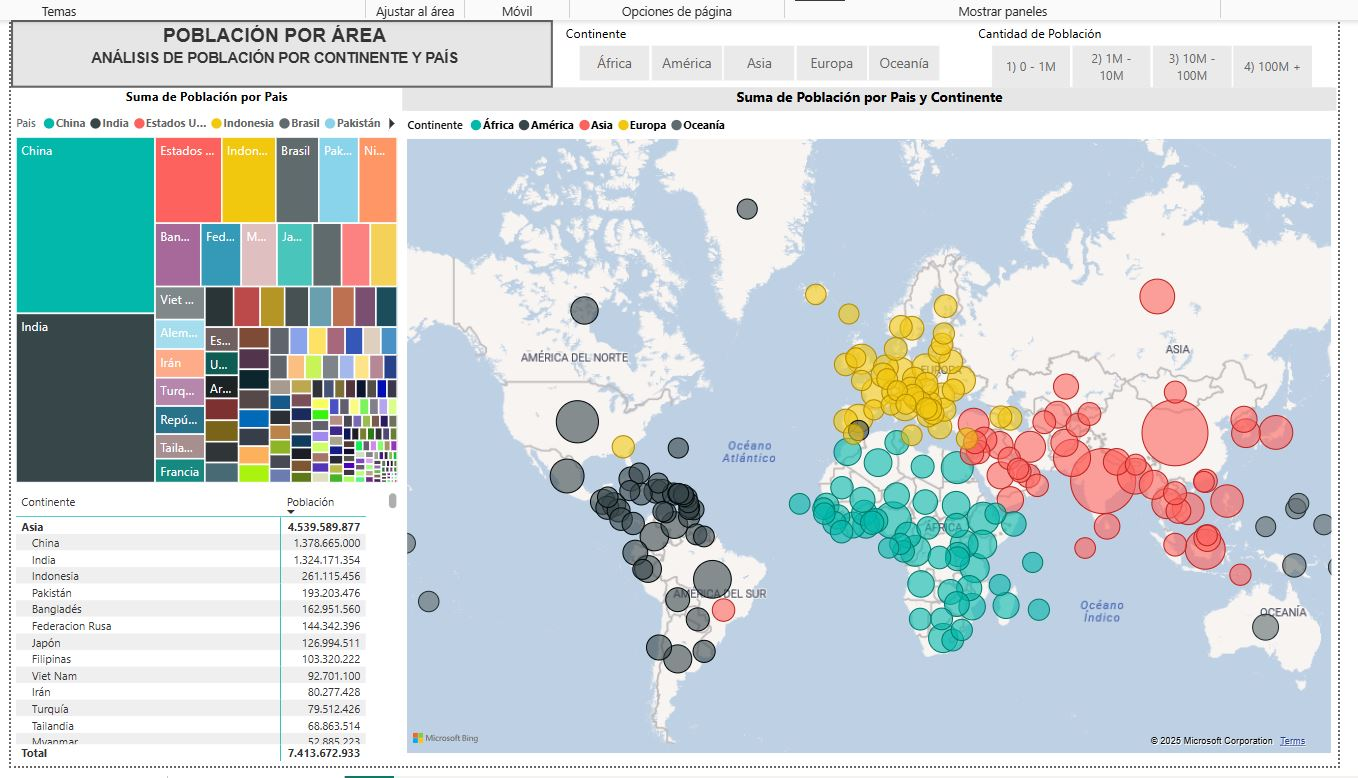

The dashboard page shown, as its layout file describes it:
{"tool":"powerbi","page":{"name":"Poblacion por Area","canvas":[1280,720],"ordinal":1},"visuals":[{"type":"pivotTable","fields":{"Rows":["Paises.Continente","Paises.Pais"],"Values":["Sum(Population.Población)"]},"box":[0,451.3,377.9,268.7],"z":0},{"type":"actionButton","box":[0,0,100,40],"z":1000},{"type":"slicer","fields":{"Values":["Population.Cantidad de Población"]},"box":[920.6,0,359.1,65.4],"z":2000},{"type":"slicer","fields":{"Values":["Paises.Continente"]},"box":[523,0,397.6,65.4],"z":3000},{"type":"treemap","fields":{"Group":["Paises.Pais"],"Values":["Sum(Population.Población)"]},"box":[0,65.4,377.9,386],"z":4000},{"type":"map","fields":{"Category":["Paises.Pais"],"Size":["Sum(Population.Población)"],"Series":["Paises.Continente"]},"box":[377.9,65.4,901.8,647.5],"z":5000},{"type":"shape","box":[0,0,523,65.4],"z":6000},{"type":"textbox","box":[10.7,0,487.2,55.5],"z":7000}]}

Visuals, with their boxes on the page's 1280x720 design canvas (x1, y1, x2, y2). These are canvas units, not pixel positions in the 1358x778 screenshot, which may show the page scaled, cropped or inside an application window:
pivotTable - Paises.Continente x Paises.Pais: 0 451 378 720
actionButton: 0 0 100 40
slicer - Population.Cantidad de Población: 921 0 1280 65
slicer - Paises.Continente: 523 0 921 65
treemap - Paises.Pais x Sum(Population.Población): 0 65 378 451
map - Paises.Pais x Sum(Population.Población): 378 65 1280 713
shape: 0 0 523 65
textbox: 11 0 498 56
